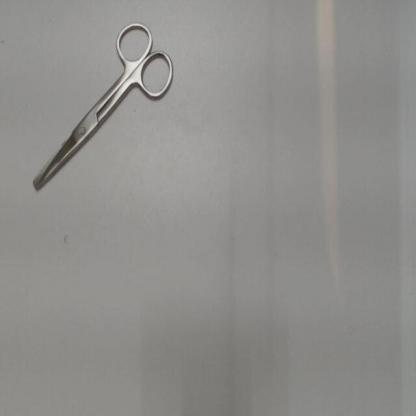Dressing Scissors: (23, 13, 184, 204)
